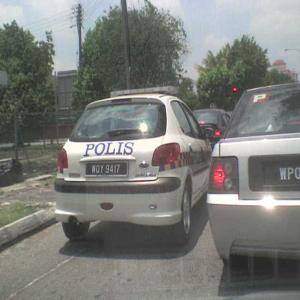Vehicle-registration-plate: (264, 157, 300, 187), (87, 164, 128, 178), (280, 164, 300, 186)
